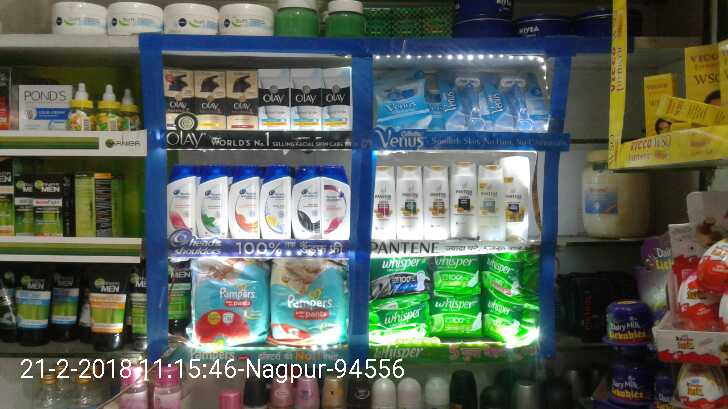venus: (445, 70, 494, 127), (374, 82, 428, 128), (494, 76, 538, 127)
